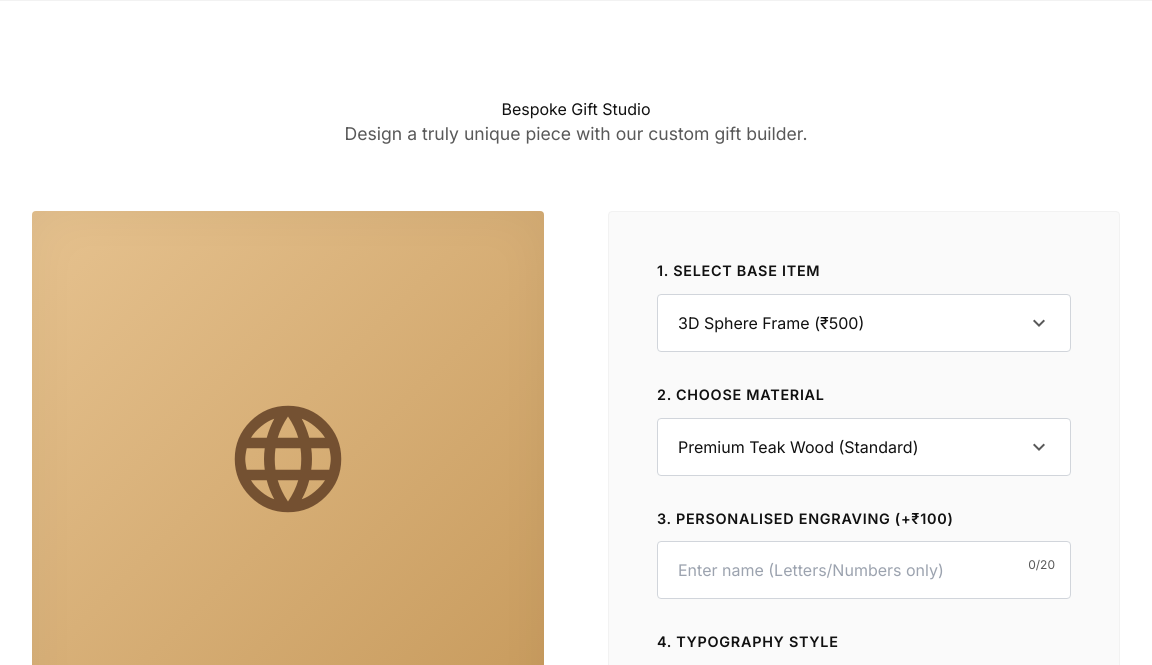
Test: BuildPage Security & Functional Tests › SEC-001: Strips malicious XSS tags from Engraving input
In the field with placeholder "Enter name (Letters/Numbers only)": (864, 570) x1=657 y1=541 x2=1071 y2=599, type "<script>alert('xss')</script>John-Doe!"
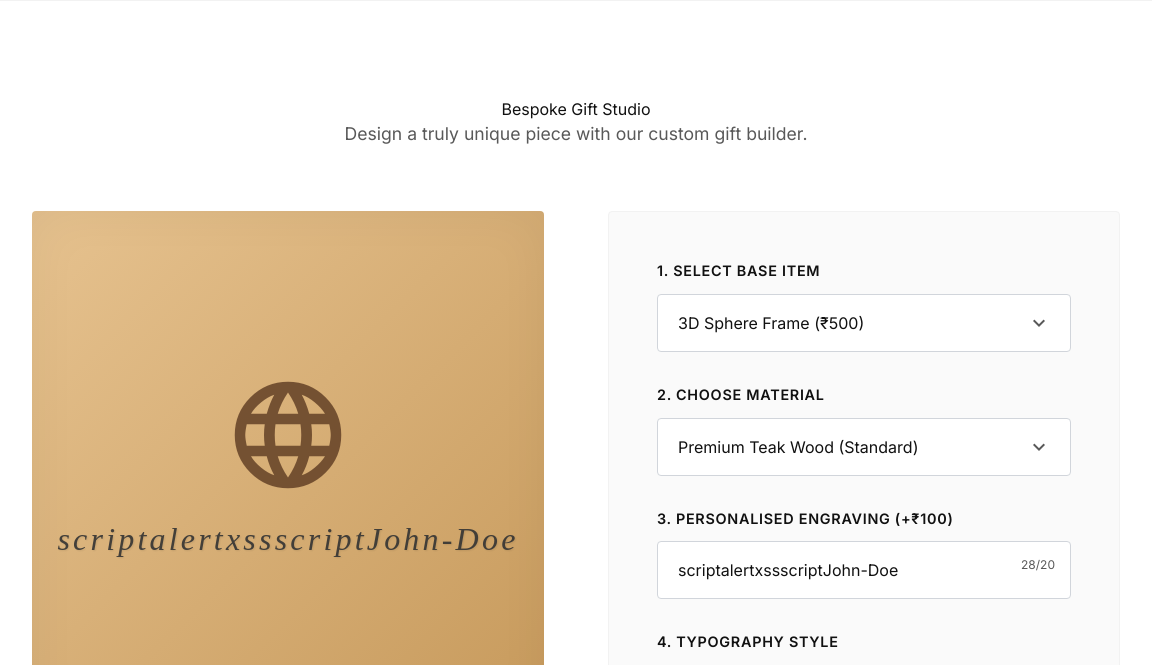
Now the field with placeholder "Enter name (Letters/Numbers only)" holds "scriptalertxssscriptJohn-Doe", box x1=657 y1=541 x2=1071 y2=599
Now the text "scriptalertxssscriptJohn-Doe" is shown, box x1=57 y1=515 x2=518 y2=563
